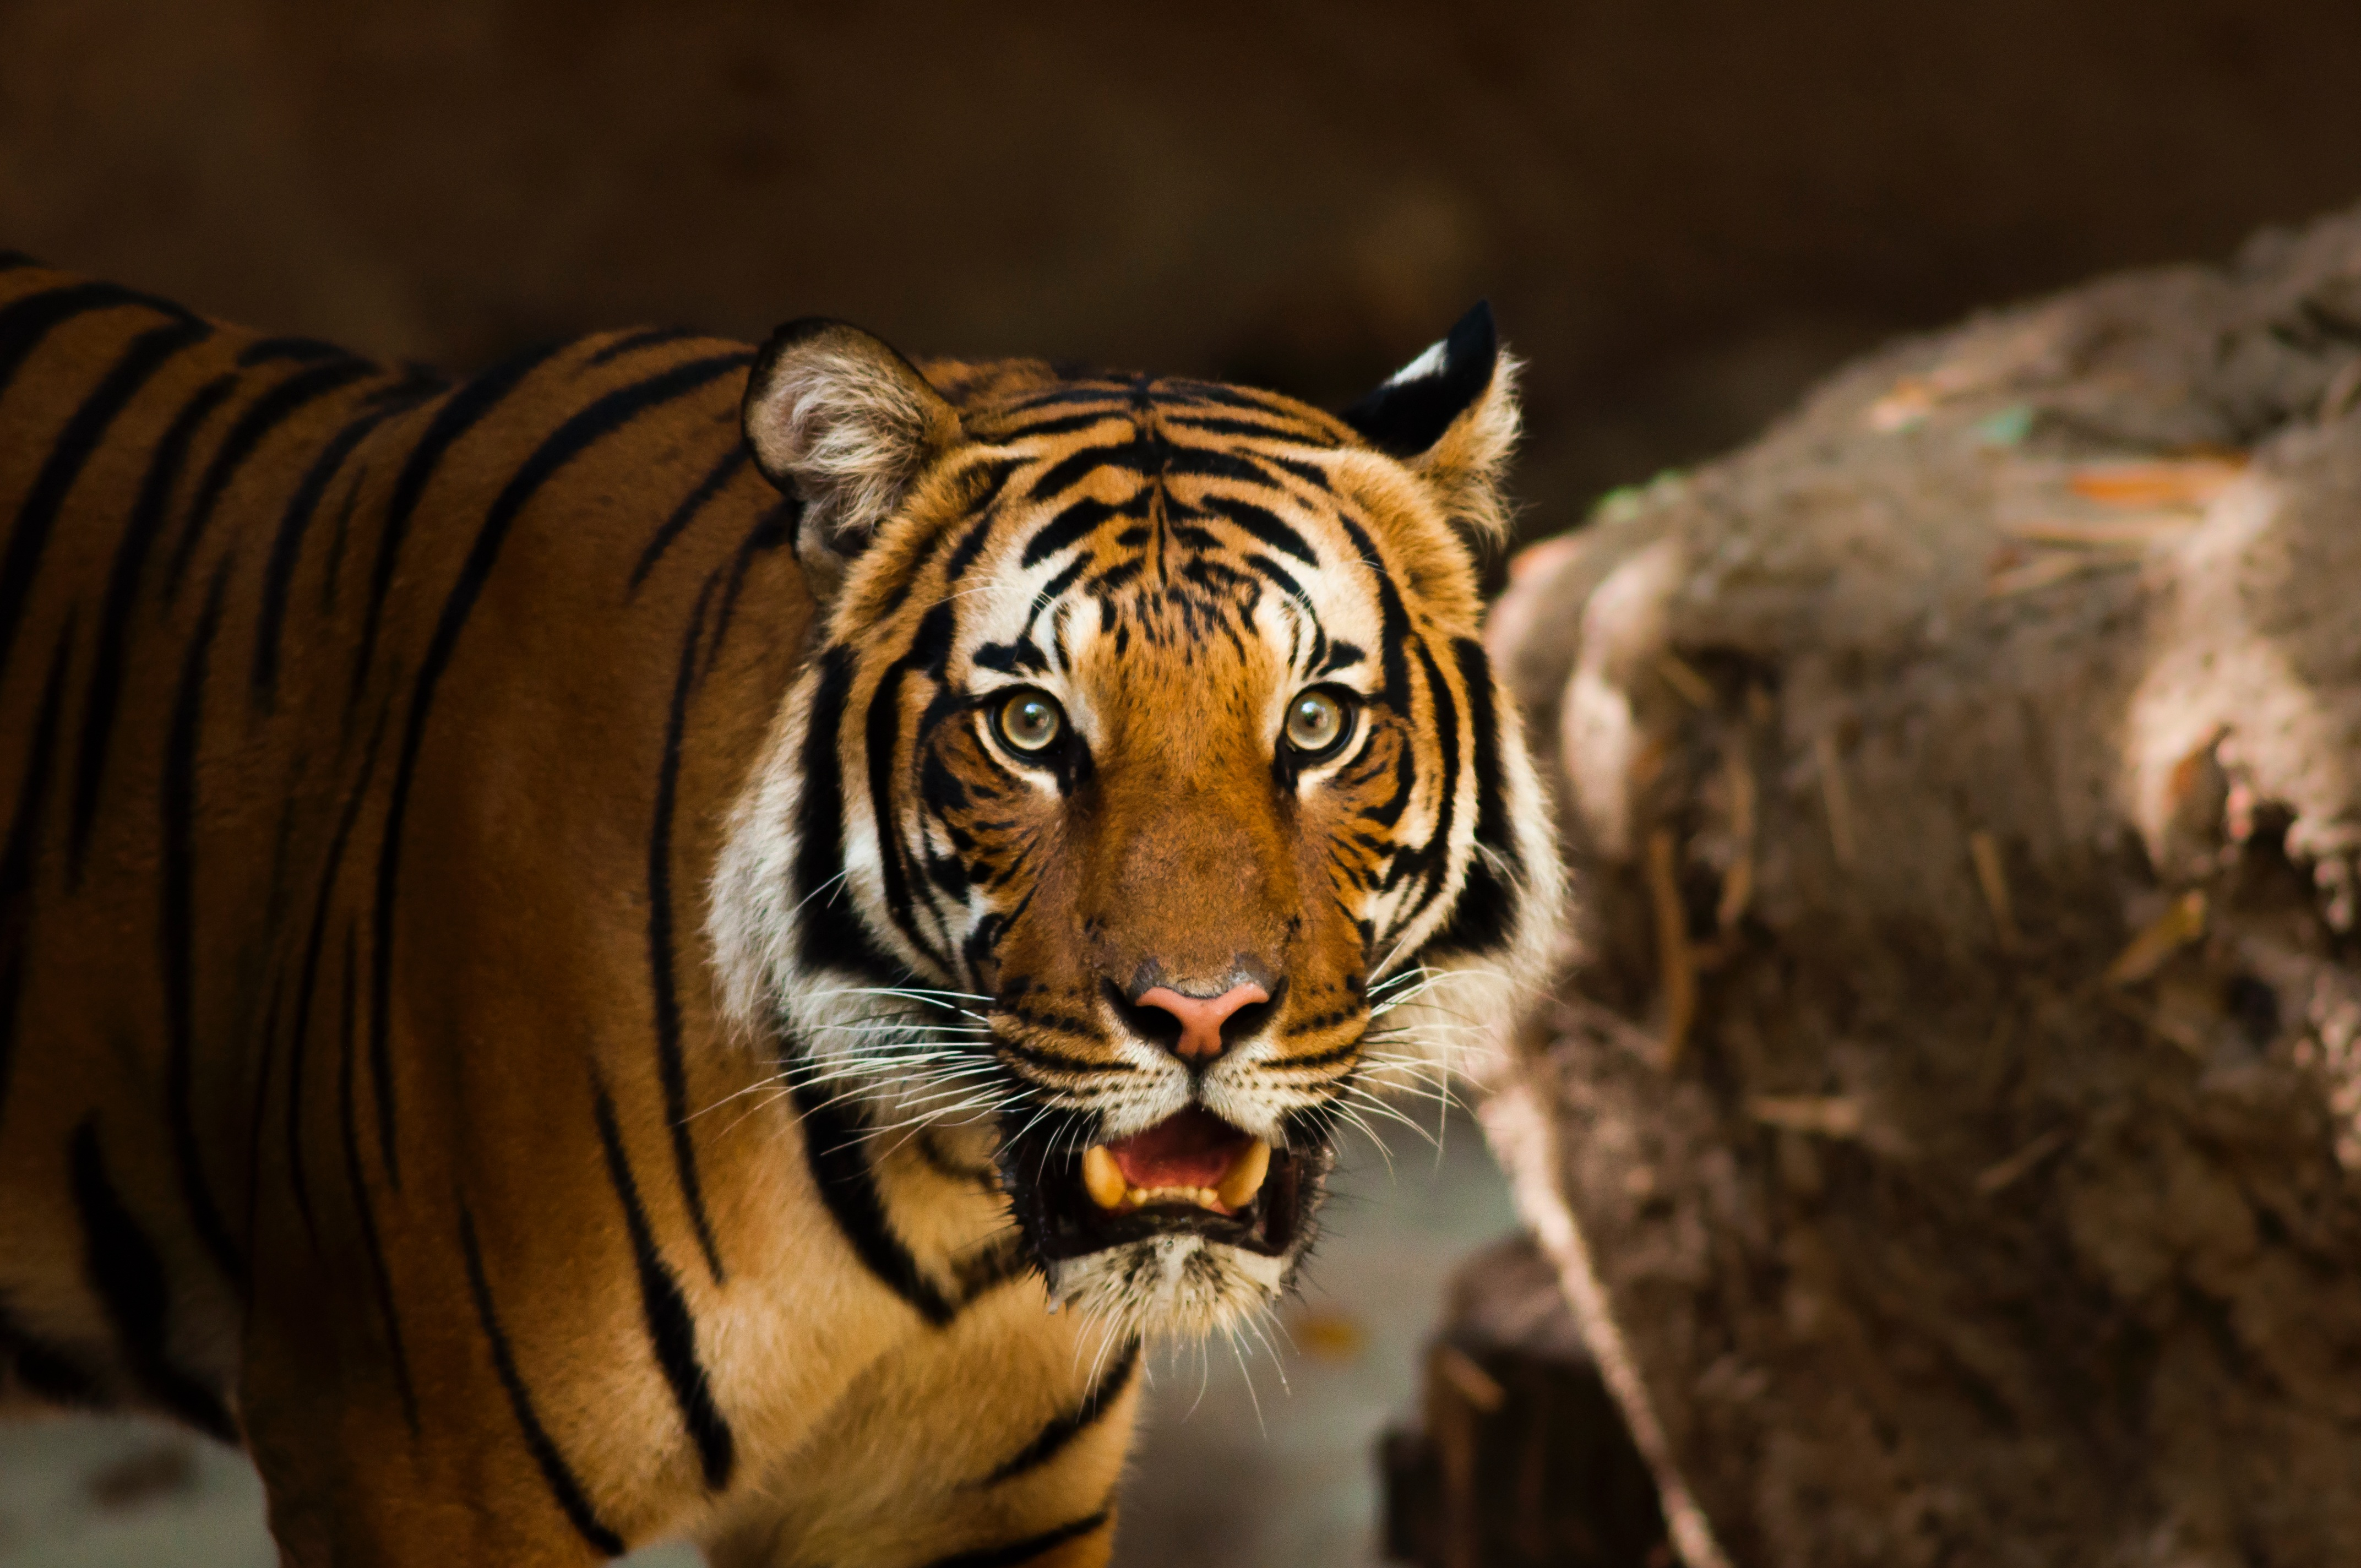tiger: (0, 303, 1650, 1522)
